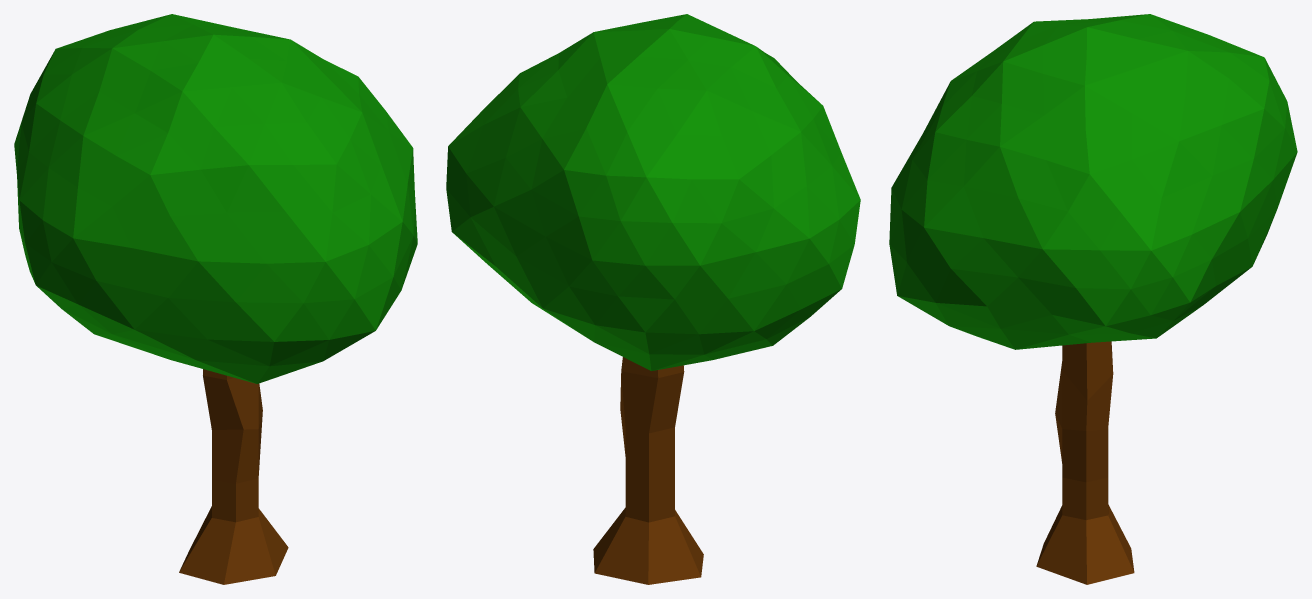
The model's file is MeshTree.fbx.
3 views of the same model, side by side, from view 1: azimuth 30°, elevation 25°; view 2: azimuth 150°, elevation 25°; view 3: azimuth 270°, elevation 25° (orthographic). The views are drawn at different scales.
Parts seen in each view (by area): view 1: Icosphere, Stump; view 2: Icosphere, Stump; view 3: Icosphere, Stump.
Part boxes in pixels (x1=…): Icosphere: x1=14, y1=14, x2=417, y2=383; Stump: x1=179, y1=369, x2=288, y2=584; Icosphere: x1=446, y1=14, x2=860, y2=370; Stump: x1=593, y1=357, x2=703, y2=584; Icosphere: x1=889, y1=14, x2=1297, y2=349; Stump: x1=1036, y1=341, x2=1134, y2=584.
Bounding box in the file's own units: 1533 × 2111 × 1496.
